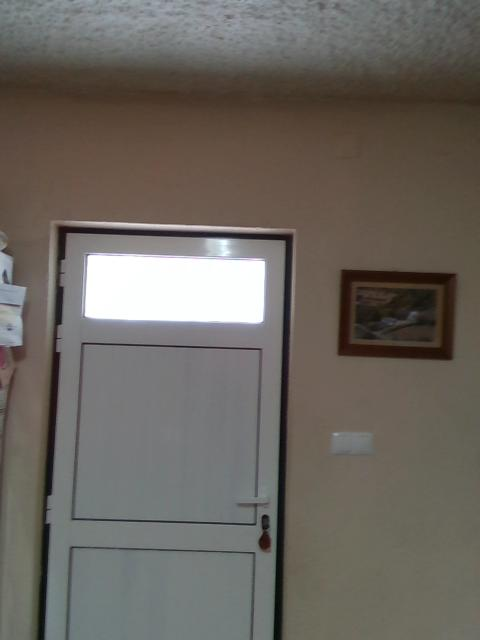door: (37, 230, 288, 639)
